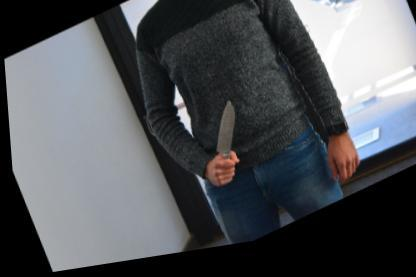knife: (194, 99, 249, 172)
